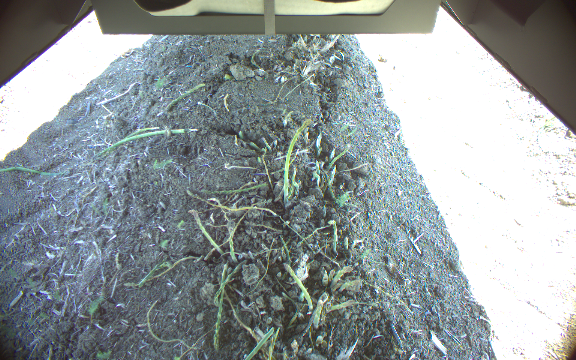aspa: (282, 119, 310, 204), (185, 209, 225, 256), (282, 262, 313, 311), (225, 221, 238, 264)
